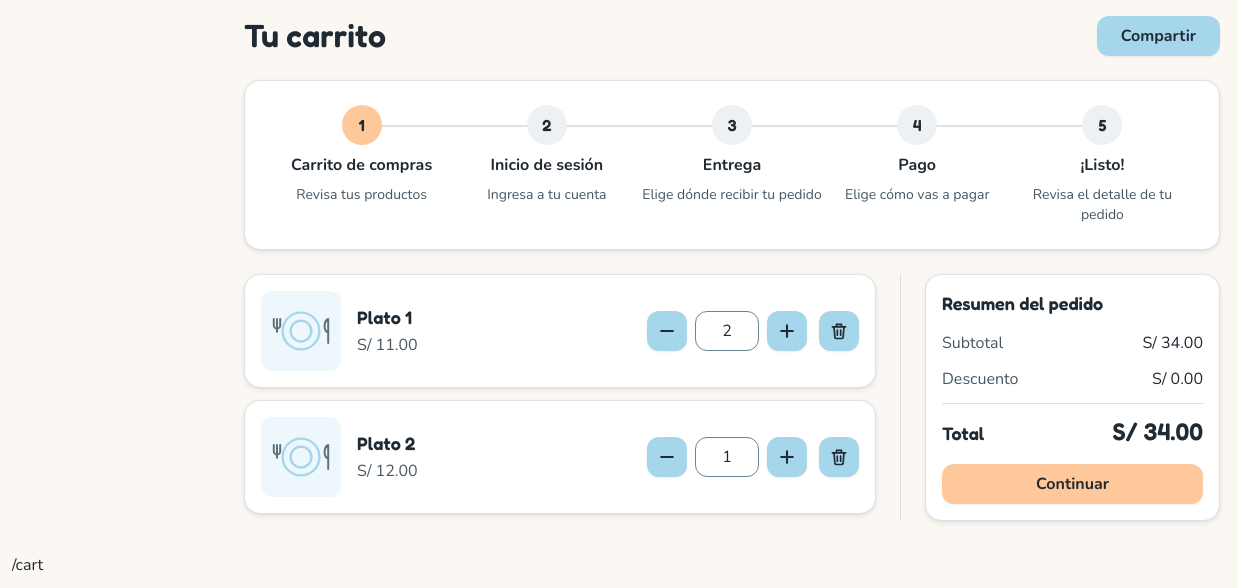
Test case: CartPage › editar cantidades › "Eliminar" quita la fila de inmediato y deja el foco en el título
This screenshot has width=1238, height=588.
Click the button named "Eliminar Plato 1 del carrito" at (839, 331), box [819,311,859,351]
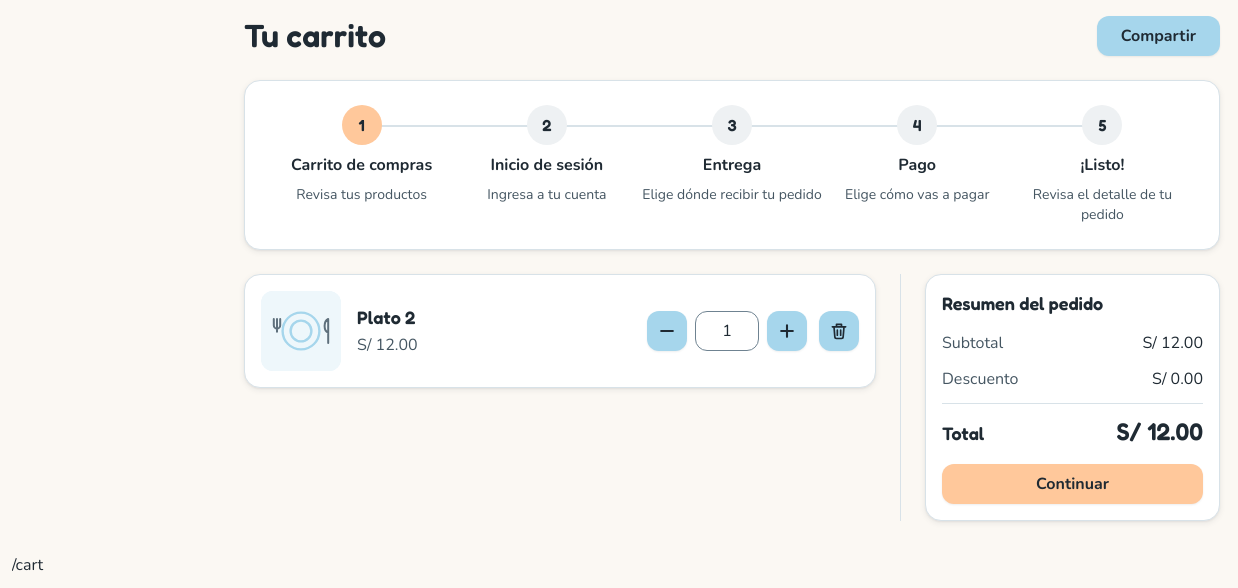
Check: the link "Plato 1" is gone
